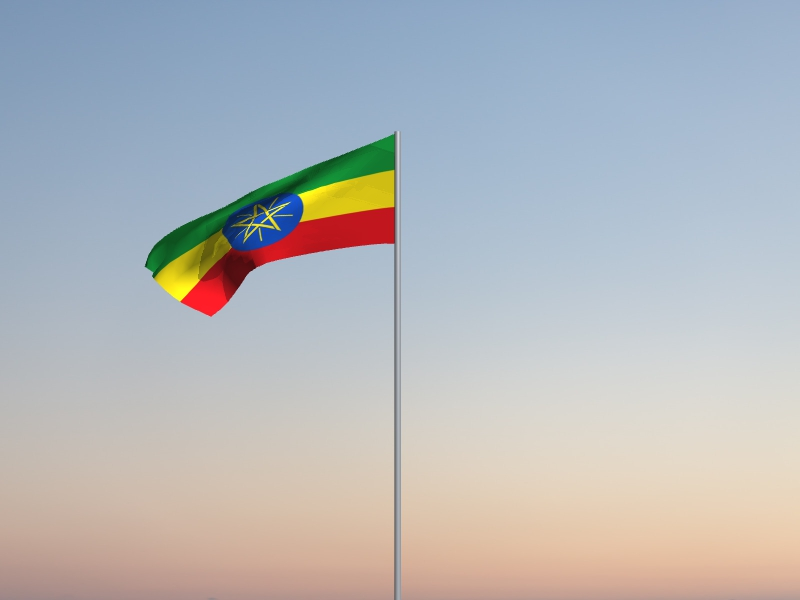et: (143, 135, 395, 319)
